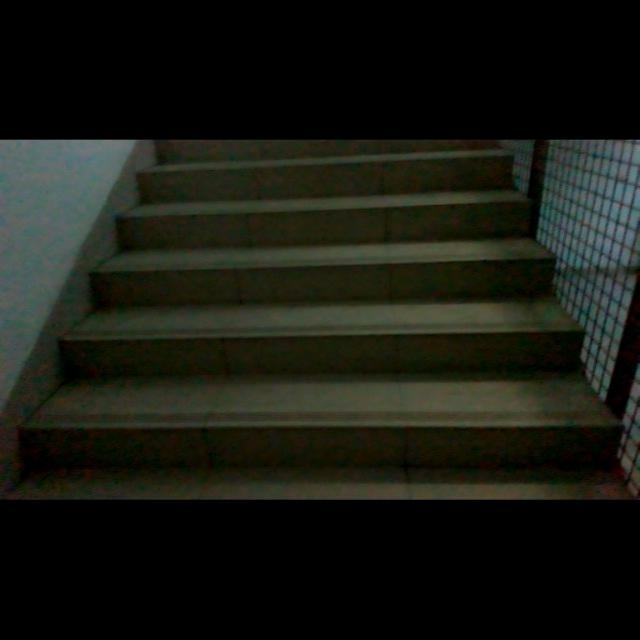stair: (25, 142, 618, 488)
